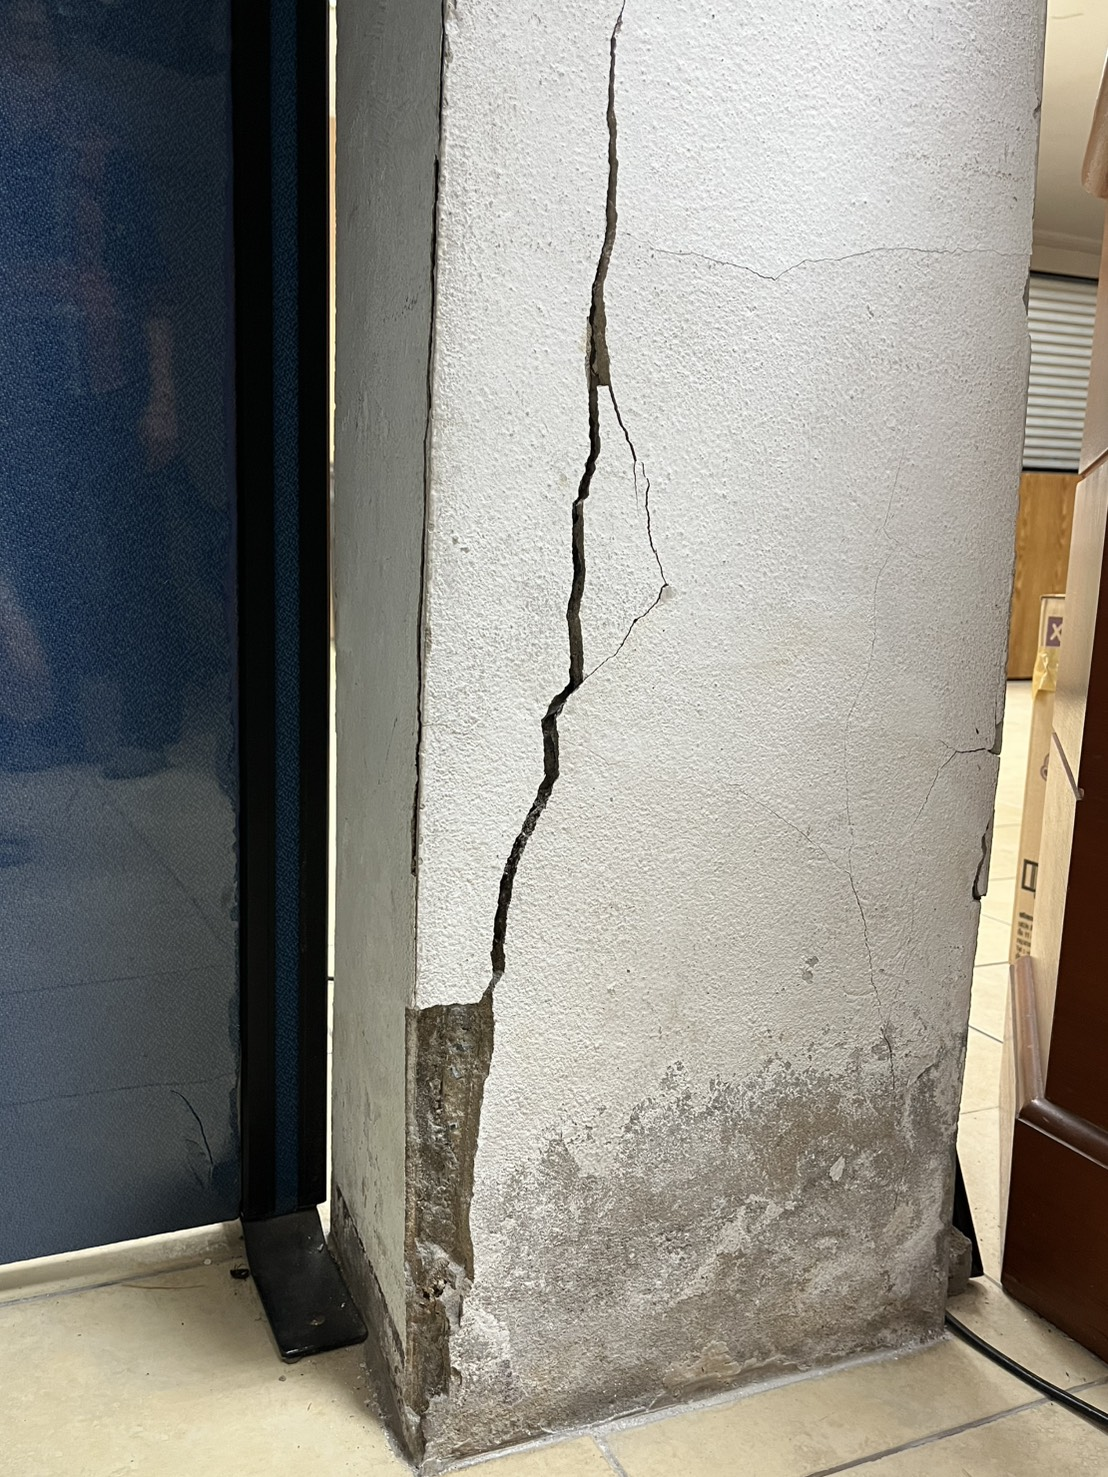High: (409, 3, 713, 1477)
